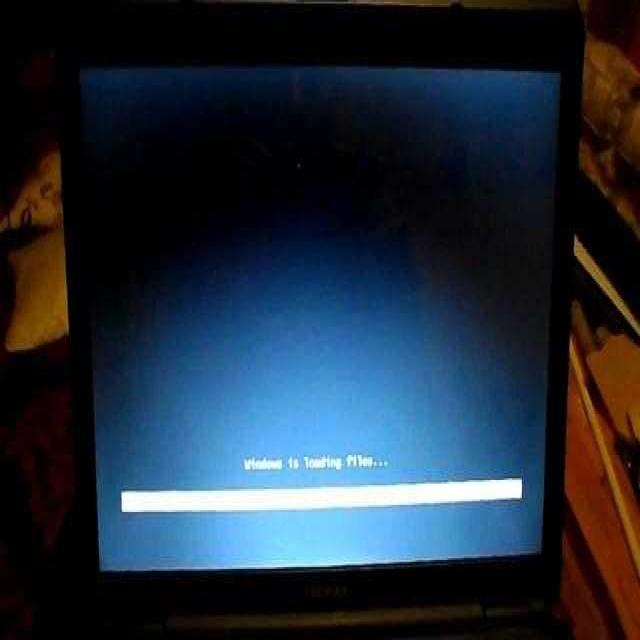laptop: (65, 45, 573, 640)
